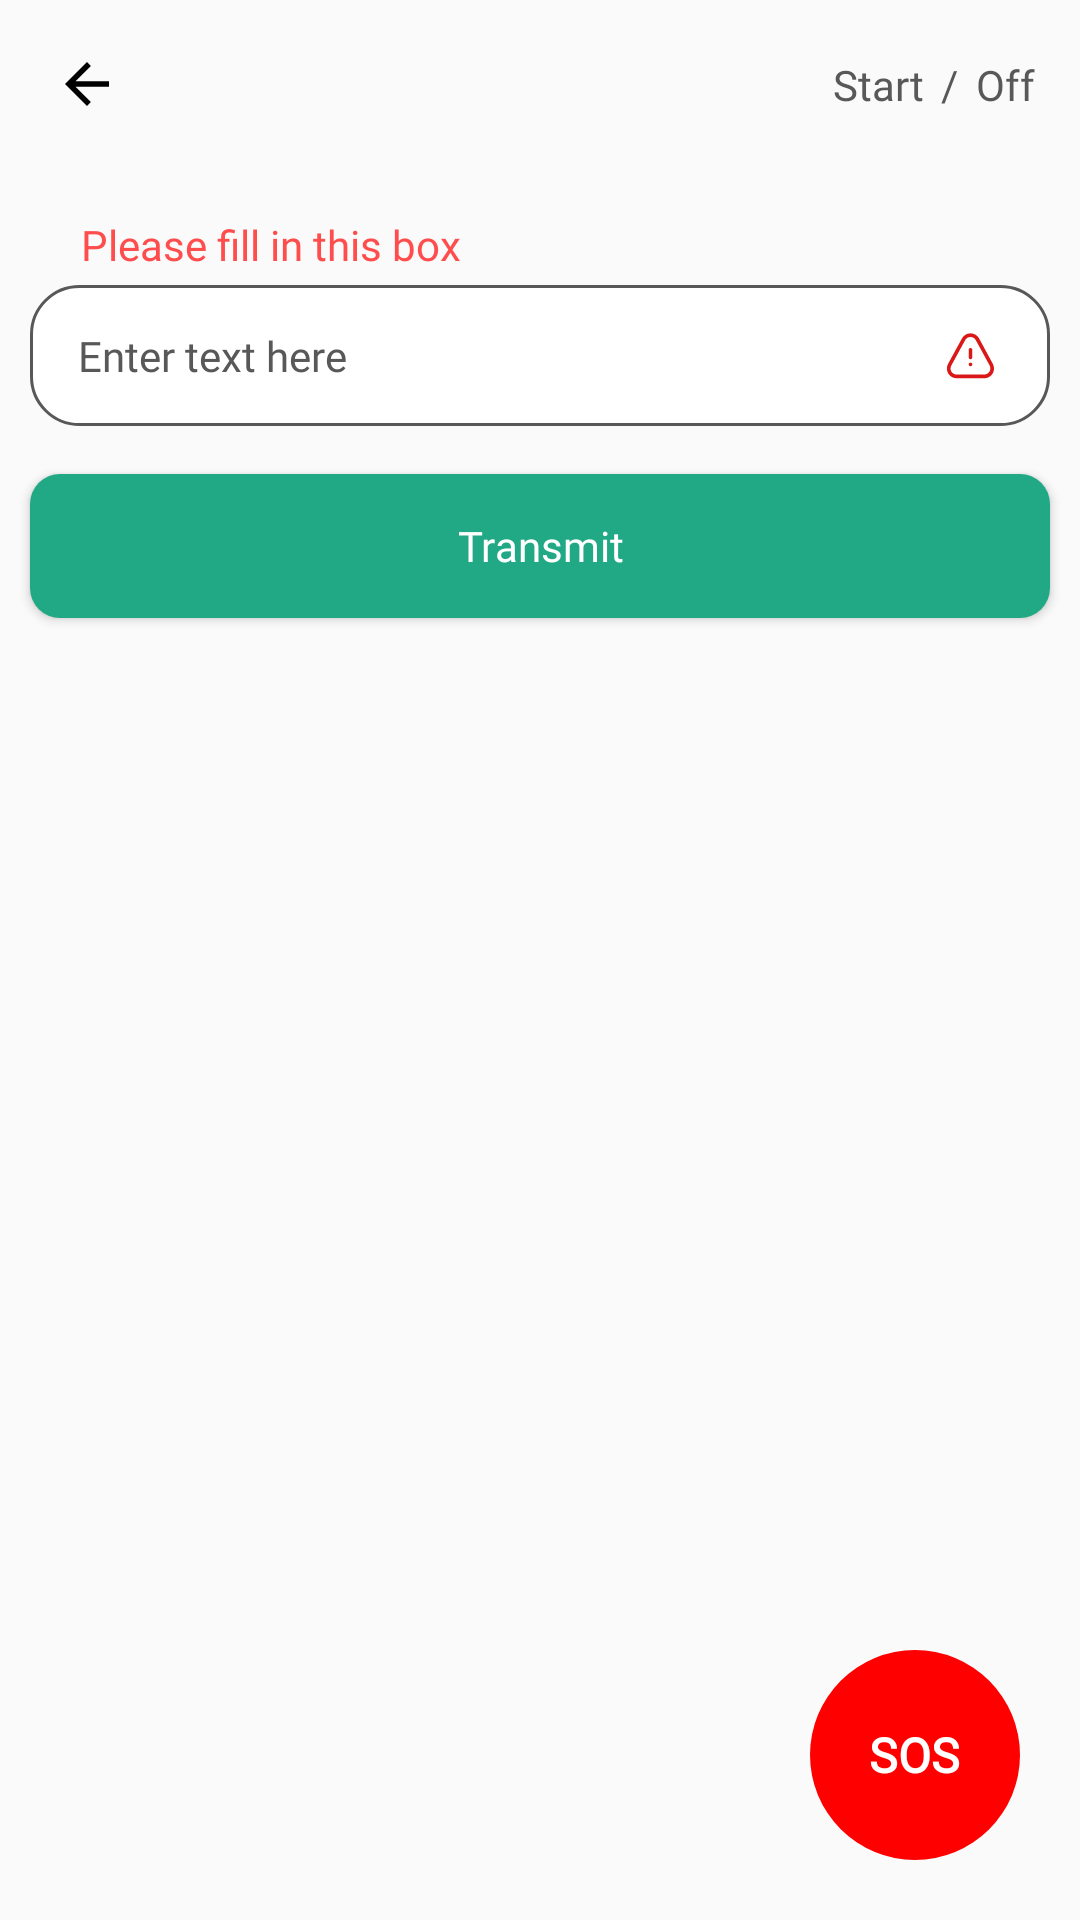

Point at icon controls on the screen. Image size 1080x1920, points as (x,y).
arrow back: (87,84)
warning: (970,356)
